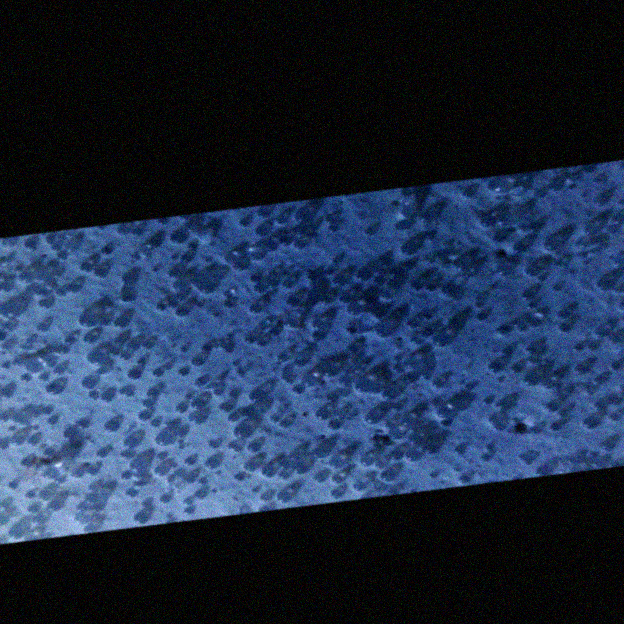GrassBeadSeg: (546, 138, 568, 167), (363, 442, 382, 473), (280, 340, 300, 369), (479, 256, 499, 285), (178, 307, 198, 335), (105, 9, 126, 35), (432, 439, 451, 466), (299, 357, 318, 384), (281, 21, 299, 49), (229, 273, 246, 301), (230, 404, 248, 430), (106, 413, 124, 438), (281, 247, 299, 271), (31, 236, 48, 261), (460, 485, 477, 510), (484, 177, 500, 203), (219, 538, 237, 561), (70, 144, 88, 167), (175, 55, 193, 78), (249, 450, 266, 474), (250, 224, 267, 248), (320, 534, 336, 559), (522, 310, 539, 333), (208, 349, 225, 372), (536, 261, 553, 284), (531, 76, 548, 99), (254, 382, 270, 406), (133, 459, 151, 480), (347, 377, 364, 399), (117, 184, 134, 206), (301, 508, 318, 530), (62, 517, 78, 540), (287, 534, 303, 557), (14, 547, 29, 571), (595, 191, 610, 215), (462, 440, 479, 461), (455, 193, 472, 214), (245, 573, 261, 595), (100, 143, 116, 165), (376, 144, 392, 166), (293, 432, 309, 454), (538, 549, 554, 571), (188, 458, 204, 480), (328, 90, 344, 112), (240, 156, 254, 181), (338, 589, 353, 612), (395, 34, 410, 57), (166, 213, 183, 233), (492, 307, 506, 331), (402, 409, 418, 430), (46, 151, 62, 172), (398, 133, 414, 154), (597, 163, 611, 187), (198, 114, 212, 138), (16, 287, 31, 309), (576, 595, 591, 617), (399, 380, 415, 400), (260, 165, 276, 185), (91, 195, 107, 215), (221, 465, 236, 486), (478, 402, 492, 424), (397, 503, 411, 525), (466, 597, 480, 619), (126, 80, 140, 102), (349, 535, 363, 557), (515, 407, 529, 429), (358, 410, 372, 432), (93, 429, 109, 448), (485, 219, 500, 239), (402, 187, 417, 207), (217, 507, 231, 528), (16, 196, 30, 217), (517, 582, 531, 603), (125, 307, 141, 325), (543, 0, 556, 22), (63, 408, 78, 427), (331, 160, 346, 179), (237, 536, 252, 555), (605, 545, 620, 564), (308, 239, 323, 258), (416, 40, 431, 59), (337, 200, 351, 220), (403, 108, 417, 128), (3, 420, 17, 440), (442, 506, 456, 526), (41, 337, 55, 357), (506, 545, 520, 565), (262, 538, 276, 558), (453, 303, 466, 324), (124, 575, 137, 596), (38, 124, 51, 145), (25, 68, 38, 89), (19, 129, 32, 150), (112, 83, 125, 104), (192, 21, 205, 42), (490, 24, 503, 45), (578, 412, 591, 433), (493, 113, 508, 131), (259, 308, 274, 326), (363, 521, 377, 540), (73, 318, 87, 337), (504, 391, 518, 410), (111, 604, 125, 623), (554, 574, 568, 593), (233, 491, 247, 510), (520, 114, 534, 133), (596, 432, 608, 454), (307, 157, 320, 177), (189, 400, 203, 418), (117, 120, 131, 138), (461, 338, 475, 356), (401, 158, 415, 176), (354, 587, 368, 605), (12, 110, 24, 131), (64, 26, 76, 47), (85, 104, 97, 125), (313, 376, 326, 395), (101, 243, 114, 262), (319, 9, 332, 28), (553, 93, 566, 112), (468, 88, 481, 107), (347, 261, 360, 280), (214, 382, 227, 401), (302, 69, 315, 88), (563, 407, 576, 426), (443, 6, 456, 25), (289, 50, 302, 69), (335, 523, 347, 543), (374, 475, 386, 495), (292, 599, 306, 616), (202, 307, 216, 324), (204, 272, 218, 289), (469, 465, 483, 482), (448, 147, 462, 164), (460, 232, 474, 249), (526, 185, 539, 203), (396, 293, 409, 311), (95, 477, 108, 495), (558, 552, 571, 570), (555, 174, 568, 192), (546, 529, 559, 547), (40, 481, 53, 499), (53, 570, 66, 588), (0, 125, 11, 146), (450, 389, 461, 410), (566, 310, 578, 329), (195, 437, 207, 456), (319, 75, 331, 94), (324, 45, 336, 64), (346, 110, 358, 129), (354, 93, 366, 112), (359, 481, 371, 500), (286, 457, 298, 476), (273, 587, 285, 606), (450, 247, 464, 263), (284, 403, 297, 420), (251, 551, 264, 568), (193, 293, 206, 310), (26, 375, 39, 392), (99, 300, 112, 317), (393, 81, 405, 99), (181, 541, 193, 559), (73, 292, 85, 310), (289, 273, 301, 291), (604, 45, 616, 63), (292, 81, 304, 99), (481, 341, 491, 362), (305, 24, 316, 43), (521, 136, 532, 155), (526, 256, 537, 275), (548, 282, 559, 301), (307, 196, 318, 215), (224, 207, 235, 226), (141, 381, 152, 400), (379, 392, 390, 411), (121, 391, 134, 407), (307, 323, 320, 339), (471, 545, 483, 562), (502, 490, 514, 507), (439, 347, 451, 364), (139, 21, 151, 38), (516, 493, 528, 510), (412, 566, 424, 583), (421, 436, 433, 453), (271, 372, 283, 389), (431, 14, 442, 32), (384, 19, 395, 37), (504, 24, 515, 42), (527, 12, 538, 30), (592, 40, 603, 58), (481, 73, 492, 91), (445, 366, 456, 384), (261, 203, 272, 221), (290, 199, 301, 217), (216, 183, 227, 201), (181, 603, 194, 618), (146, 489, 159, 504), (492, 458, 504, 474), (291, 569, 303, 585), (443, 567, 455, 583), (337, 24, 349, 40), (87, 495, 99, 511), (189, 483, 201, 499), (105, 356, 117, 372), (33, 356, 45, 372), (51, 437, 63, 453), (481, 290, 493, 306), (114, 520, 126, 536), (223, 361, 235, 377), (201, 154, 213, 170), (418, 384, 428, 403), (306, 563, 317, 580), (322, 307, 333, 324), (85, 3, 98, 17), (270, 146, 282, 161), (513, 608, 525, 623), (538, 443, 550, 458), (0, 54, 10, 72), (192, 261, 204, 276), (461, 510, 473, 525), (170, 279, 180, 297), (199, 195, 209, 213), (145, 276, 156, 292), (35, 411, 46, 427), (376, 541, 387, 557), (559, 457, 570, 473), (424, 577, 435, 593), (516, 562, 527, 578), (78, 40, 89, 56), (325, 510, 336, 526), (553, 250, 564, 266), (172, 140, 183, 156), (475, 508, 485, 525), (492, 336, 502, 353), (7, 80, 17, 97), (230, 175, 240, 192), (458, 266, 470, 280), (276, 204, 288, 218), (4, 301, 16, 315), (425, 597, 436, 612), (592, 496, 603, 511), (96, 519, 107, 534), (54, 488, 65, 503), (472, 190, 483, 205), (580, 313, 591, 328), (206, 536, 217, 551), (613, 478, 624, 493), (239, 474, 250, 489), (464, 529, 475, 544), (410, 541, 420, 557), (28, 473, 40, 486), (160, 565, 171, 579), (151, 449, 162, 463), (500, 47, 511, 61), (572, 361, 583, 375), (552, 414, 561, 431), (560, 215, 570, 230), (439, 250, 449, 265), (54, 367, 64, 382), (601, 570, 611, 585), (362, 166, 372, 181), (443, 480, 453, 495), (507, 119, 516, 135), (567, 194, 576, 210), (422, 532, 431, 548), (339, 548, 348, 564), (332, 443, 341, 459), (283, 438, 292, 454), (261, 270, 270, 286), (232, 439, 241, 455), (76, 238, 87, 251), (66, 365, 77, 378), (363, 188, 373, 202), (337, 141, 347, 155), (411, 314, 421, 328), (310, 138, 319, 153), (323, 156, 332, 171), (409, 0, 418, 15), (462, 47, 471, 62), (492, 2, 501, 17), (575, 156, 584, 171), (561, 370, 570, 385), (534, 288, 543, 303), (444, 410, 453, 425), (419, 496, 428, 511), (395, 469, 404, 484), (470, 254, 479, 269), (328, 256, 337, 271), (243, 438, 252, 453), (375, 420, 384, 435), (388, 0, 400, 11), (146, 252, 156, 265), (505, 569, 515, 582), (604, 471, 614, 484), (520, 279, 528, 295), (423, 173, 431, 189), (372, 371, 380, 387), (264, 40, 273, 54), (349, 81, 358, 95), (532, 380, 541, 394), (575, 501, 584, 515), (590, 571, 599, 585), (246, 612, 257, 623), (446, 283, 456, 295), (209, 588, 219, 600), (461, 574, 471, 586), (166, 417, 176, 429), (264, 58, 272, 73), (232, 73, 240, 88), (388, 59, 396, 74), (430, 57, 438, 72), (340, 431, 348, 446), (341, 273, 349, 288), (389, 271, 397, 286), (435, 308, 443, 323), (506, 220, 514, 235), (248, 398, 256, 413), (101, 267, 110, 280), (68, 586, 77, 599), (533, 502, 542, 515), (561, 525, 570, 538), (147, 506, 156, 519), (45, 517, 54, 530), (513, 238, 521, 252), (517, 434, 525, 448), (598, 329, 605, 344), (51, 177, 59, 190), (599, 349, 607, 362), (607, 405, 615, 418), (596, 550, 604, 563), (225, 342, 233, 355), (138, 411, 147, 422), (62, 459, 71, 470), (265, 128, 274, 139), (289, 152, 296, 166), (322, 137, 329, 151), (438, 66, 445, 80), (604, 598, 611, 612), (615, 607, 622, 621), (507, 526, 514, 540), (567, 169, 575, 181), (29, 27, 36, 40), (37, 6, 44, 19), (99, 109, 106, 122), (216, 167, 223, 180), (230, 158, 237, 171), (181, 97, 188, 110), (105, 66, 112, 79), (99, 33, 106, 46), (537, 359, 544, 372), (586, 541, 593, 554), (226, 138, 233, 151), (118, 300, 125, 313), (111, 378, 118, 391), (462, 0, 472, 9), (565, 257, 573, 268), (389, 183, 397, 194), (430, 418, 437, 430), (426, 299, 433, 311), (414, 175, 421, 187), (188, 205, 195, 217), (158, 172, 165, 184), (154, 188, 161, 200), (148, 178, 155, 190), (131, 356, 138, 368), (404, 79, 412, 89), (411, 367, 419, 377), (410, 267, 416, 280), (207, 26, 214, 37), (371, 284, 378, 295), (10, 612, 17, 622), (322, 362, 329, 372), (387, 365, 393, 376), (367, 310, 373, 321), (384, 340, 390, 351), (445, 605, 451, 616), (509, 588, 515, 599), (424, 100, 431, 109), (159, 547, 165, 557), (326, 353, 332, 363), (167, 234, 173, 244), (91, 216, 97, 226), (68, 607, 74, 616), (32, 549, 38, 558), (510, 85, 515, 95), (403, 343, 408, 353), (52, 197, 57, 206), (118, 42, 123, 51), (184, 84, 189, 93), (372, 63, 377, 72), (323, 172, 328, 181), (587, 81, 592, 90), (585, 342, 590, 351), (549, 365, 554, 374), (605, 340, 610, 349), (550, 391, 555, 400), (140, 519, 145, 528), (38, 593, 43, 602), (569, 95, 574, 103), (612, 136, 617, 144), (543, 216, 548, 224), (550, 223, 555, 231), (545, 230, 550, 238), (603, 255, 608, 263), (619, 240, 624, 248), (605, 267, 610, 275), (619, 295, 624, 303), (587, 360, 592, 368), (556, 383, 561, 391), (617, 456, 622, 464), (608, 456, 613, 464), (433, 523, 438, 531), (275, 445, 280, 453), (257, 516, 262, 524), (223, 491, 228, 499), (91, 596, 96, 604), (99, 596, 104, 604), (21, 266, 26, 274), (261, 359, 266, 367), (283, 56, 287, 65), (513, 18, 517, 27), (502, 11, 506, 20), (562, 54, 566, 63), (557, 80, 561, 89), (579, 86, 583, 95), (584, 82, 588, 91), (524, 93, 528, 102), (592, 357, 596, 366), (426, 468, 430, 477), (336, 420, 340, 429), (378, 94, 382, 102), (544, 66, 548, 74), (514, 112, 518, 120), (587, 155, 591, 163), (571, 389, 575, 397), (617, 426, 621, 434), (507, 426, 511, 434), (466, 415, 470, 423), (436, 505, 440, 513), (398, 531, 402, 539), (369, 577, 373, 585), (404, 567, 408, 575), (97, 605, 101, 613), (99, 613, 103, 621), (35, 588, 39, 596), (266, 341, 270, 349), (274, 355, 278, 363), (36, 462, 41, 468), (33, 456, 37, 462), (444, 80, 448, 85), (441, 558, 444, 564), (294, 328, 297, 334), (370, 257, 373, 263), (500, 377, 503, 382), (428, 459, 431, 464), (437, 418, 440, 423), (374, 549, 377, 554), (304, 541, 307, 546), (160, 308, 163, 313), (333, 324, 336, 329), (384, 275, 387, 280), (367, 325, 370, 330), (368, 334, 371, 339), (365, 341, 368, 346), (391, 355, 394, 360), (101, 388, 104, 393), (207, 394, 210, 398), (376, 282, 379, 286), (471, 424, 473, 429), (436, 560, 438, 565), (435, 554, 437, 559), (403, 467, 405, 472), (308, 535, 310, 540), (378, 277, 380, 282), (208, 390, 210, 394), (474, 429, 476, 432), (209, 387, 211, 390), (339, 308, 341, 311), (521, 356, 523, 359), (136, 96, 136, 96)
